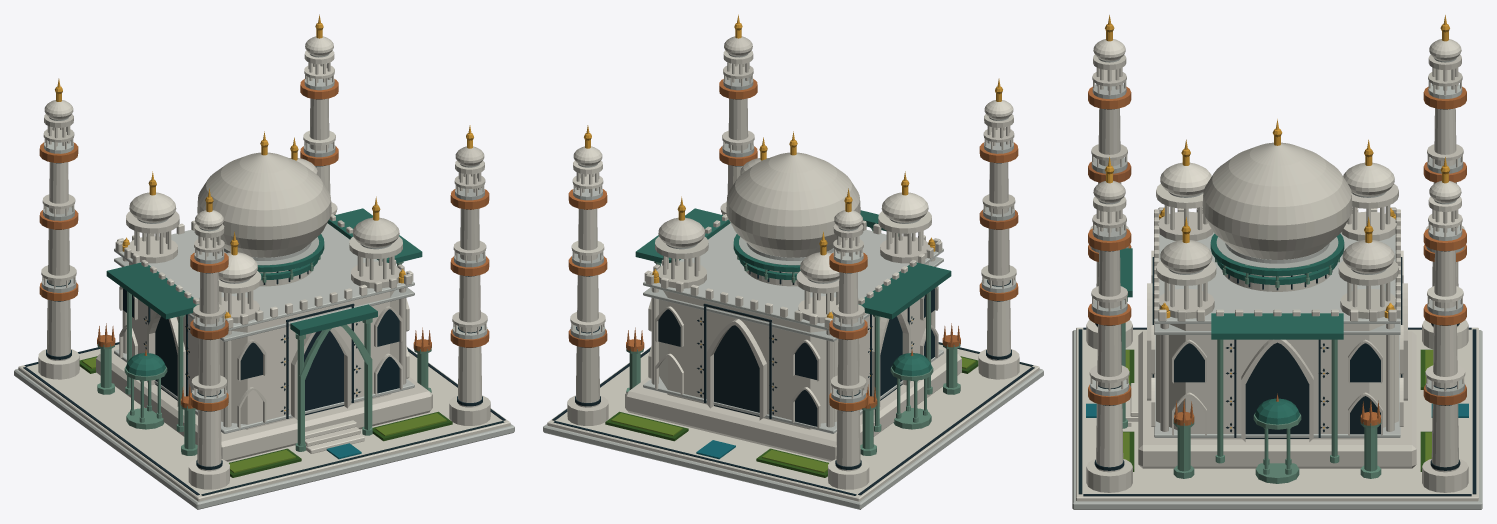
The picture shows the model from 3 angles, left to right: view 1: azimuth 30°, elevation 25°; view 2: azimuth 150°, elevation 25°; view 3: azimuth 270°, elevation 25°; orthographic projection. The views are drawn at different scales.
Visible parts, largest first — view 1: fort_L7_0, fort_L7_1; view 2: fort_L7_0, fort_L7_1; view 3: fort_L7_0, fort_L7_1.
Part boxes in pixels (x1,y1,x2,y2): fort_L7_0: (14,23,514,509); fort_L7_1: (39,14,489,411); fort_L7_0: (543,23,1043,509); fort_L7_1: (568,14,1018,411); fort_L7_0: (1072,24,1482,509); fort_L7_1: (1088,15,1466,428).
Bounding box in the file's own units: 7.6 × 6.93 × 7.6.
